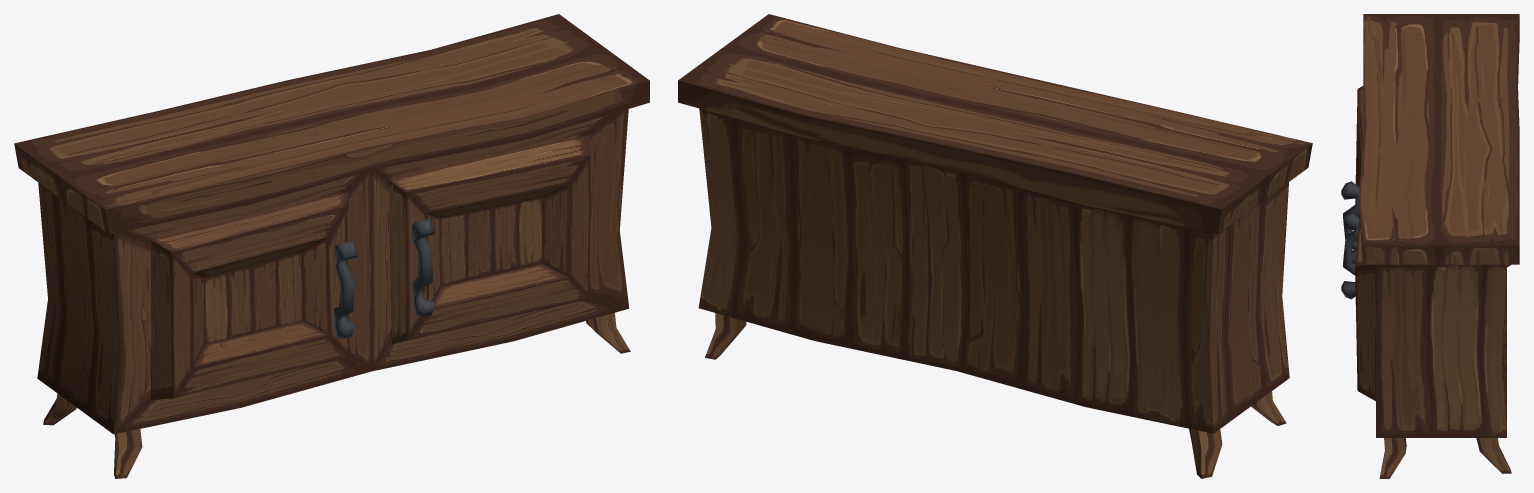
File: SM_PROP_cabinet_interior_01.fbx
The picture shows the model from 3 angles, left to right: view 1: azimuth 30°, elevation 25°; view 2: azimuth 150°, elevation 25°; view 3: azimuth 270°, elevation 25°; orthographic projection. The views are drawn at different scales.
Visible parts, largest first — view 1: SM_PROP_cabinet_interior_01, SM_PROP_cabinet_door_01_interior_01, SM_PROP_cabinet_door_02_interior_01; view 2: SM_PROP_cabinet_interior_01; view 3: SM_PROP_cabinet_interior_01, SM_PROP_cabinet_door_02_interior_01, SM_PROP_cabinet_door_01_interior_01.
Boxes of the visible parts, x1,y1,x2,y2 form: SM_PROP_cabinet_interior_01: (14,14,649,478); SM_PROP_cabinet_door_01_interior_01: (151,192,357,400); SM_PROP_cabinet_door_02_interior_01: (389,135,590,344); SM_PROP_cabinet_interior_01: (678,14,1312,478); SM_PROP_cabinet_interior_01: (1359,14,1519,478); SM_PROP_cabinet_door_02_interior_01: (1341,211,1375,400); SM_PROP_cabinet_door_01_interior_01: (1341,86,1363,262).
Bounding box in the file's own units: 194 × 95.15 × 64.03.
